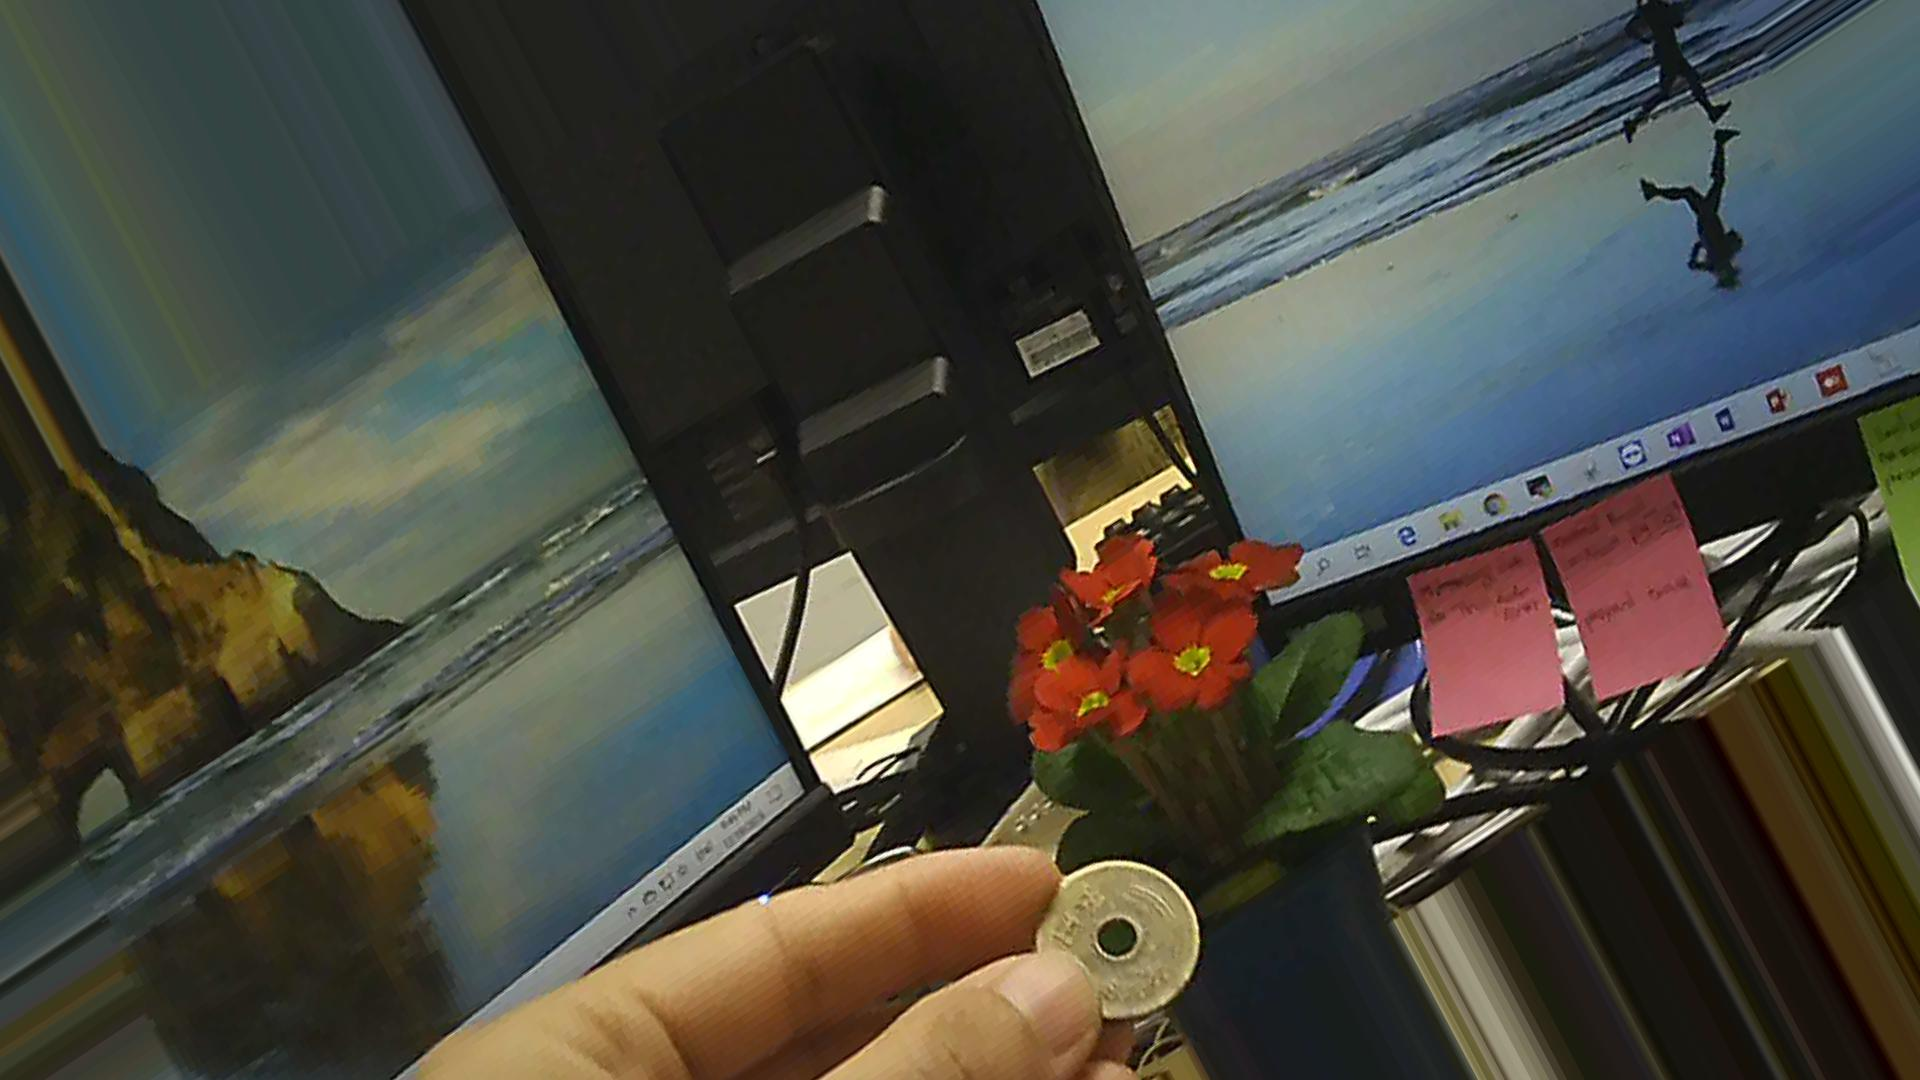5 Yen: (1015, 856, 1197, 1015)
